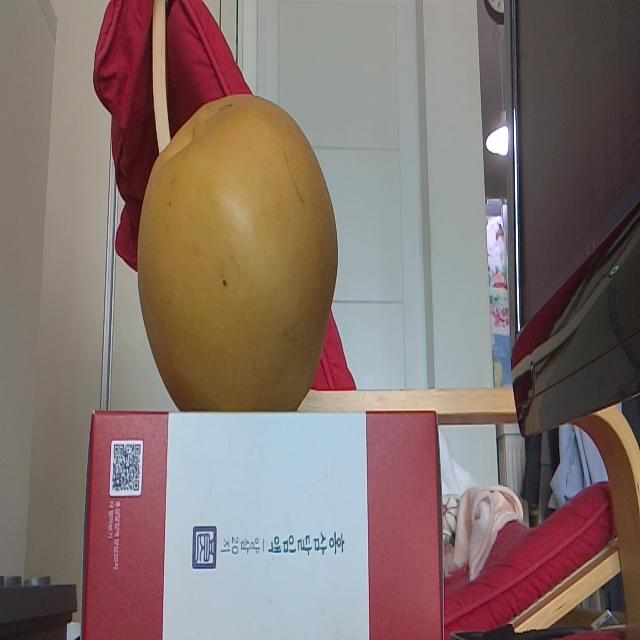pear: (139, 96, 338, 413)
